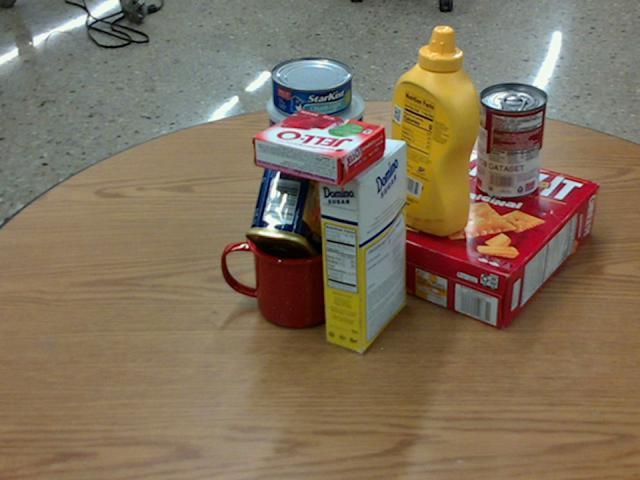cracker_box: (362, 146, 597, 329)
gelatin_box: (251, 108, 386, 187)
large_marker: (392, 107, 410, 208)
master_chef_can: (268, 83, 365, 239)
mug: (218, 210, 341, 327)
mustard_bottle: (384, 25, 479, 235)
potted_meat_can: (245, 146, 336, 266)
sugar_box: (316, 135, 405, 352)
tomato_soup_can: (475, 82, 546, 197)
tuna_fish_can: (270, 56, 352, 117)
